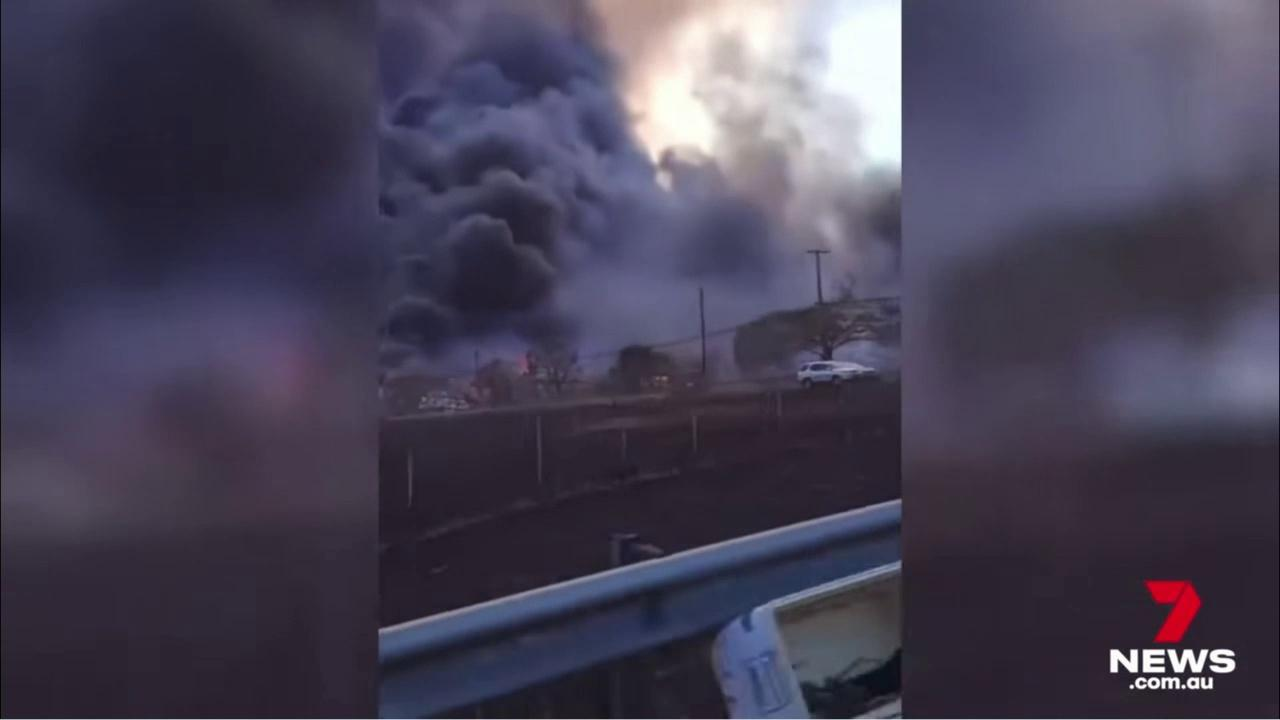fire: (512, 353, 542, 377)
smoke: (377, 0, 901, 397)
